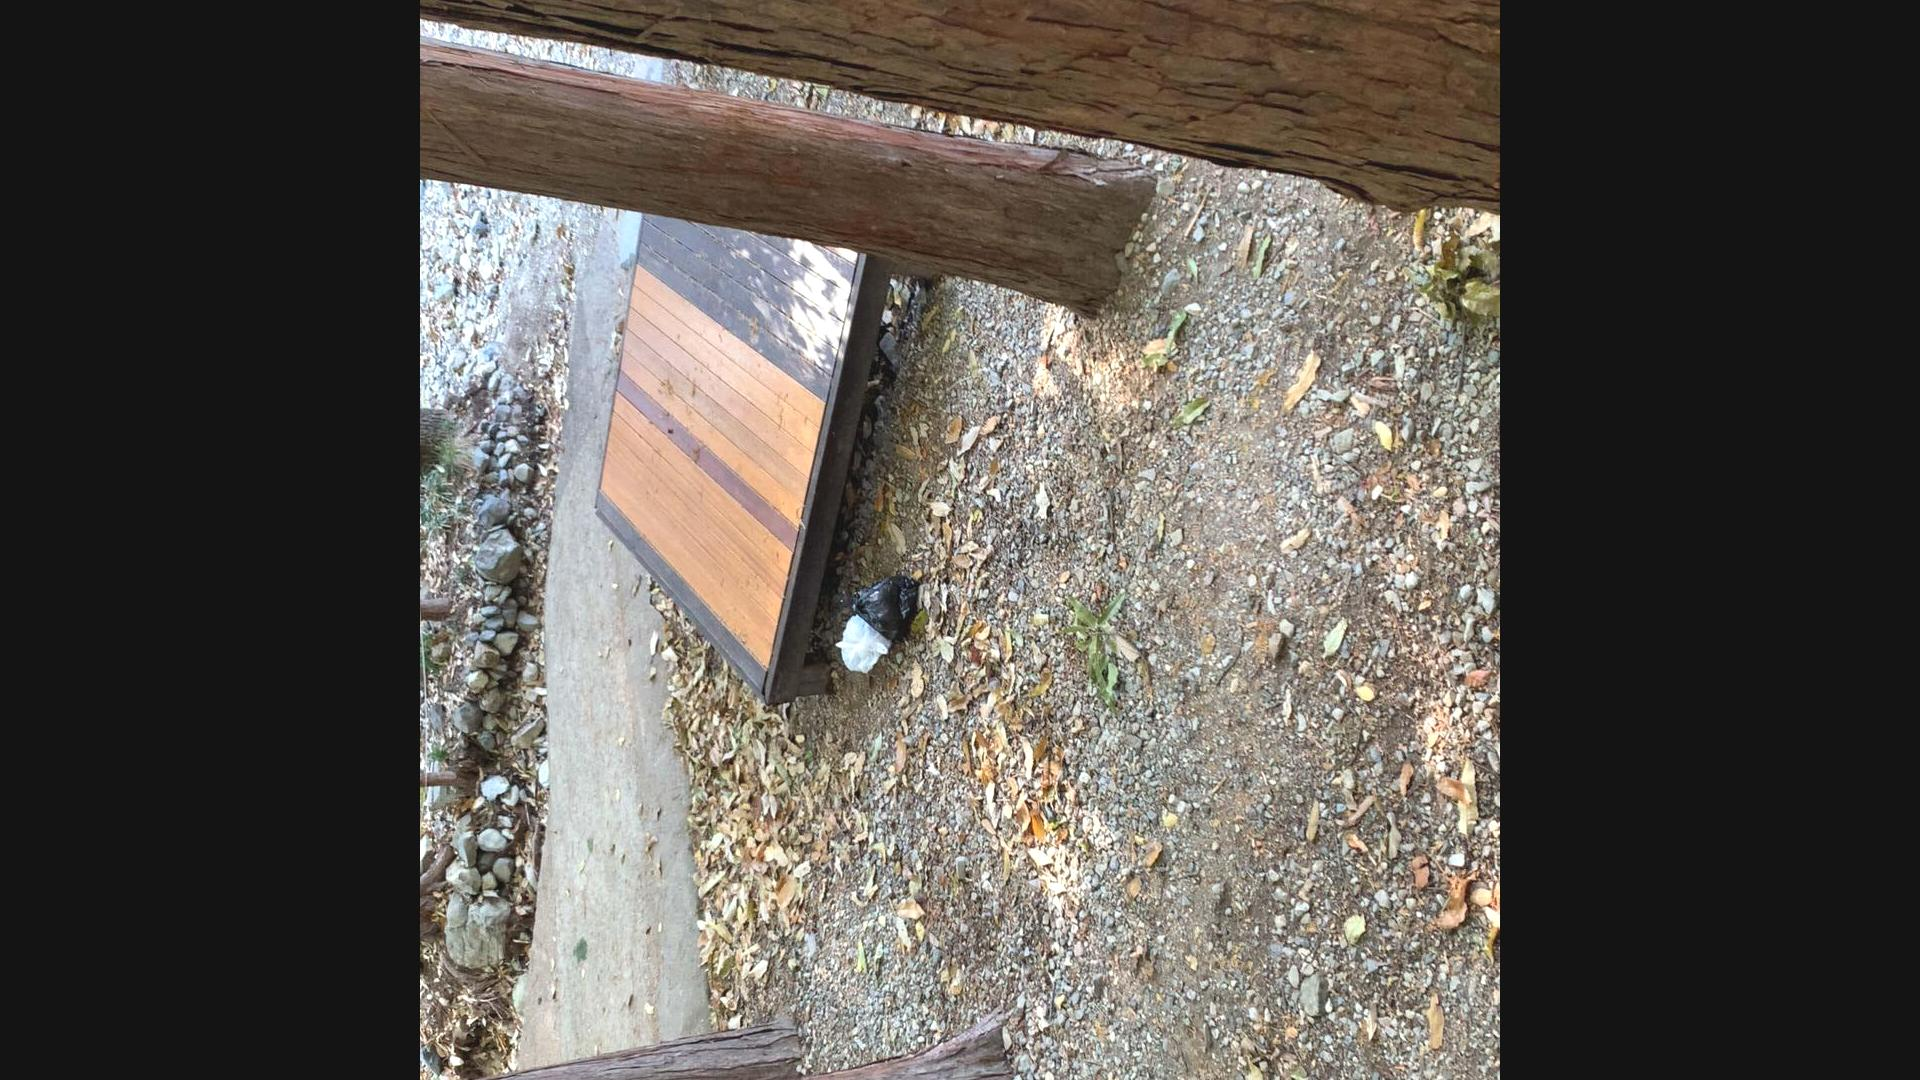black_bag: (849, 571, 920, 644)
white_bag: (829, 611, 895, 679)
